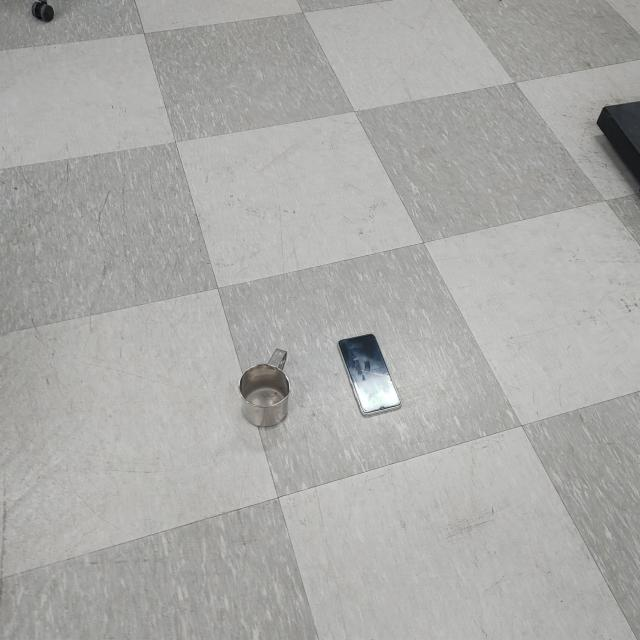cup: (238, 350, 290, 430)
phone: (338, 332, 402, 418)
